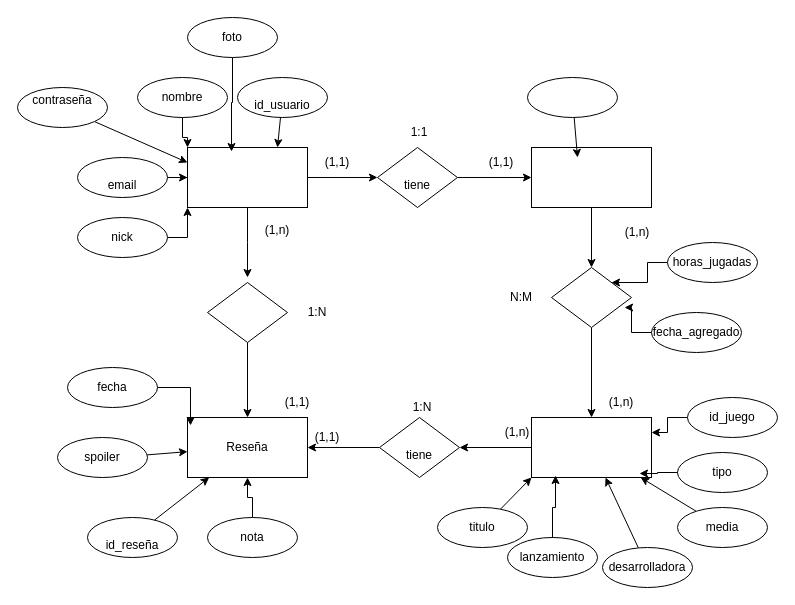
Image size: 795x605. Some labels were removed from this diagram. The shapes that lost their labels are listed below. From the top down, each one's centre as x and y in pixels, then its label:
At (572,97): "id_biblioteca".
At (247,177): "Usuario".
At (591,177): "Biblioteca".
At (247,312): "hace".
At (591,297): "hay".
At (591,447): "Juego".
